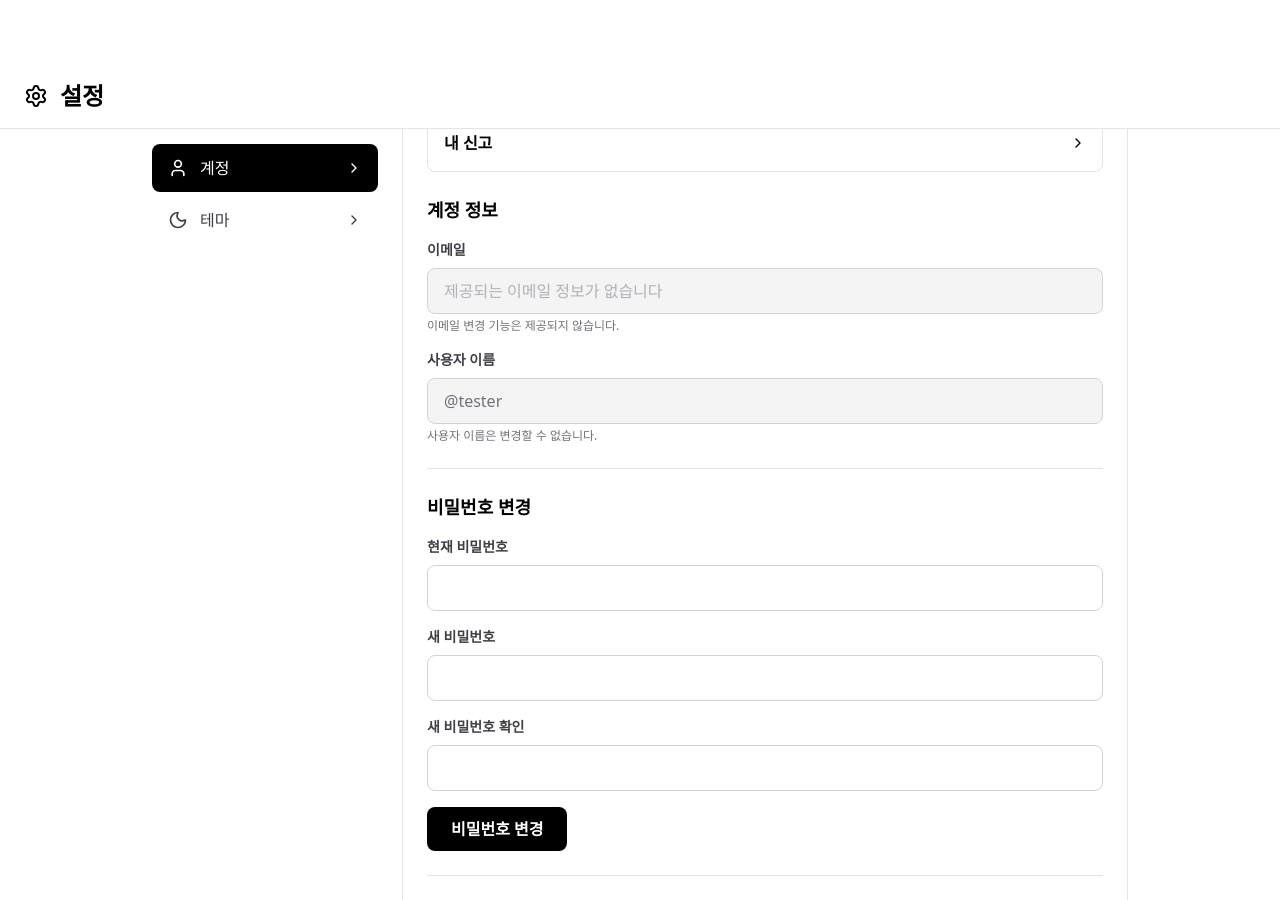
Scenario: SettingsPage › announces missing password fields as an error without clearing input
The image size is (1280, 900).
In the password field labelled "현재 비밀번호": point(765, 588) [427,565,1103,611], type "current-password"
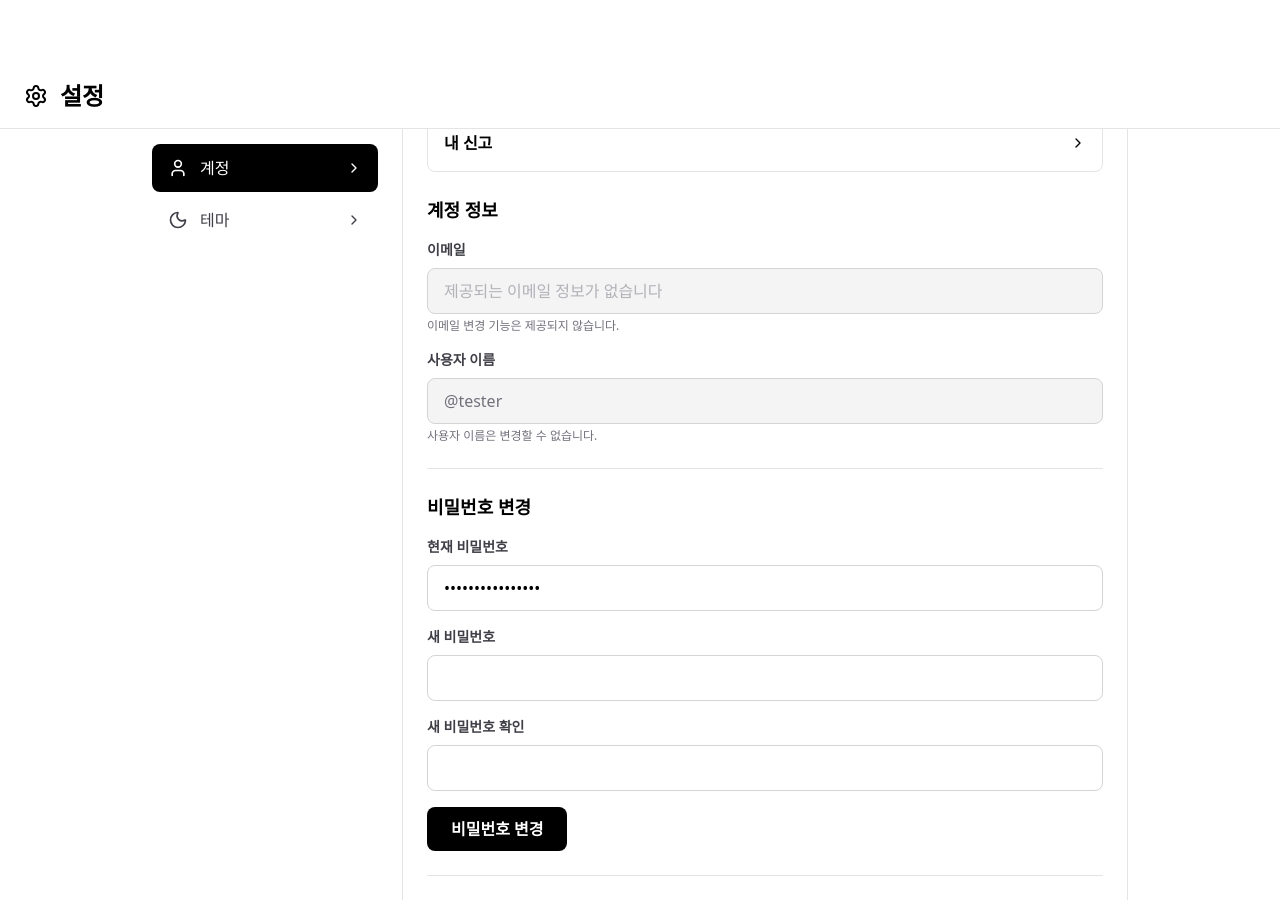
Click the button "비밀번호 변경": point(497, 829) [427,807,568,851]
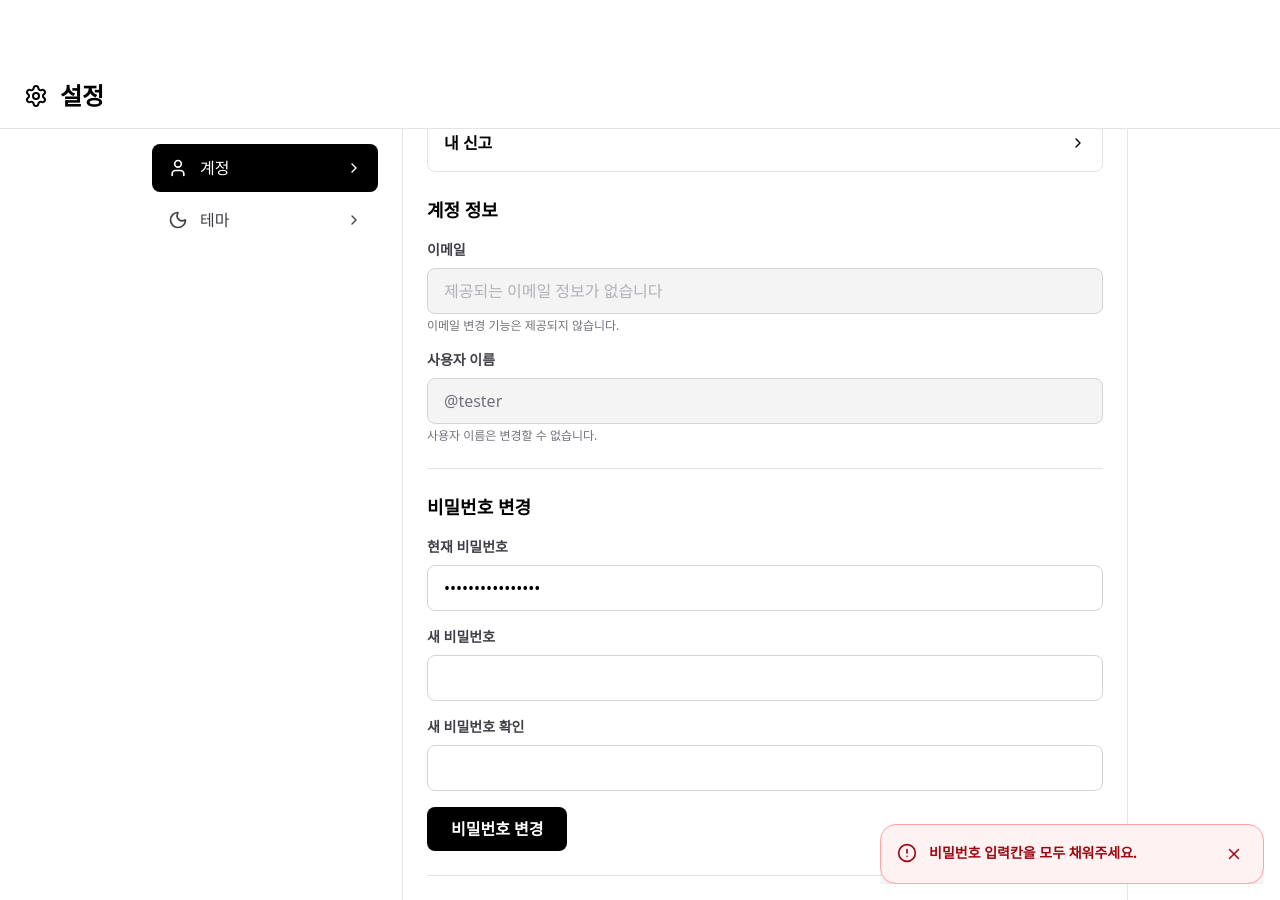
Check: the message reads "비밀번호 입력칸을 모두 채워주세요.", box [929,843,1137,862]
Click the button named "알림 닫기": point(1234, 854) [1221,841,1247,867]
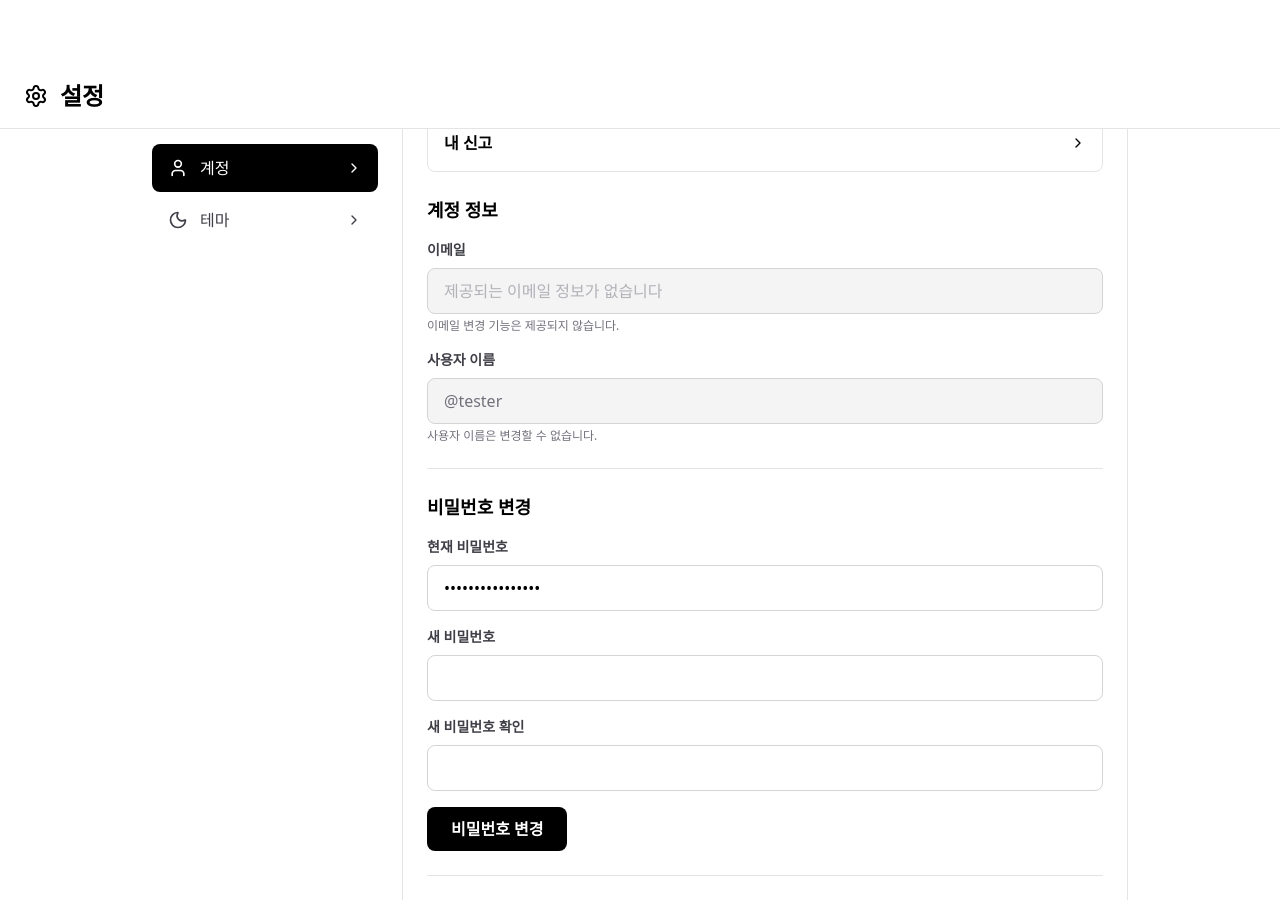
Check: the message "비밀번호 입력칸을 모두 채워주세요." is gone
